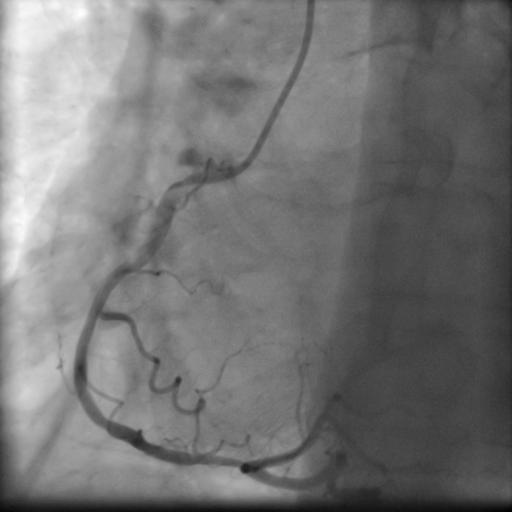Stenosis: (184, 448, 242, 475)
